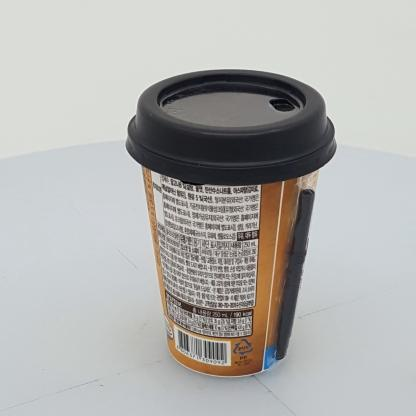---------250ML: (126, 69, 336, 377)
